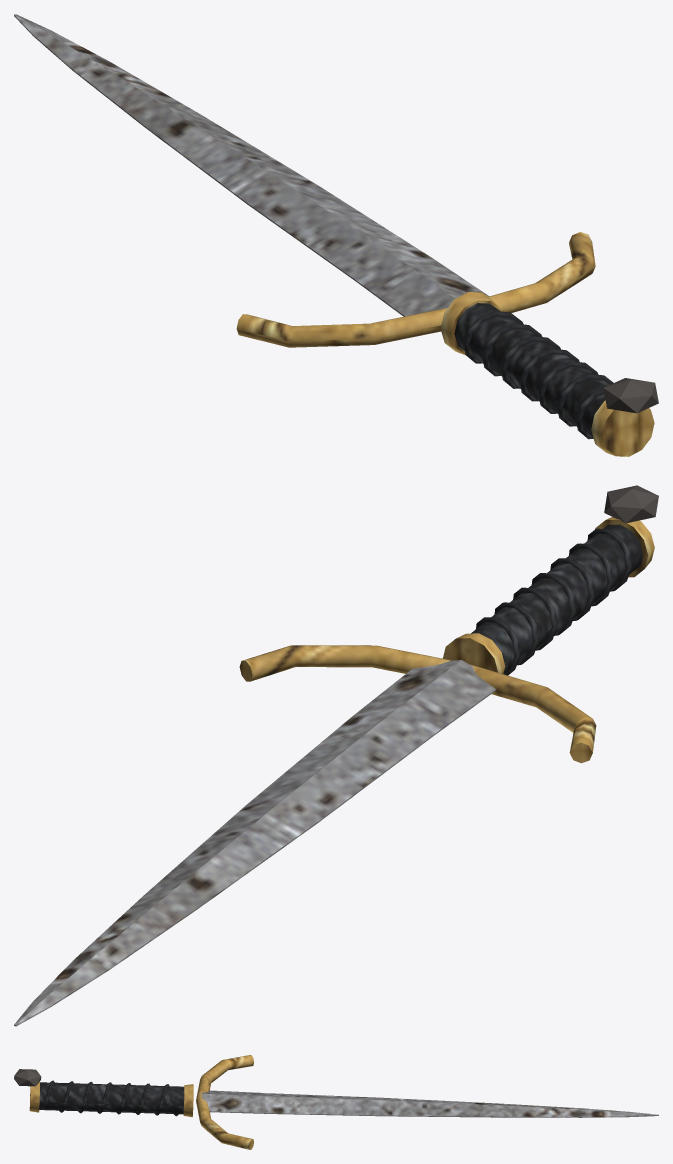
Rendered from item_ldagger1.glb.
3 views of the same model, one above another, from view 1: azimuth 30°, elevation 25°; view 2: azimuth 150°, elevation 25°; view 3: azimuth 270°, elevation 25° (orthographic). The views are drawn at different scales.
Visible parts, largest first — view 1: w02_ldagger1; view 2: w02_ldagger1; view 3: w02_ldagger1.
Part boxes in pixels (<box>): w02_ldagger1: <box>14,14,658,456</box>; w02_ldagger1: <box>14,485,658,1026</box>; w02_ldagger1: <box>14,1055,658,1149</box>.
Size of the model in its own units: 0.3162 by 0.0767 by 0.9731.
Materials: 2 (1 with a texture image).
